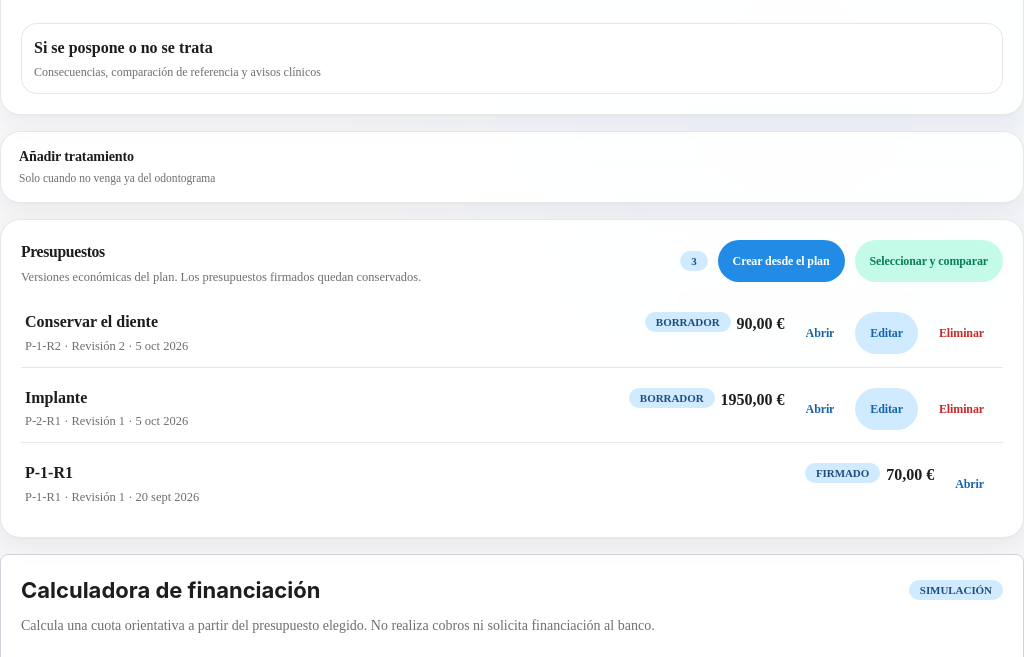
patient budget history › blocks discounts above the clinic maximum
(page scrolled)
Click the button "Abrir" in the row of "· Revisión 2".
click(820, 334)  # box [791,312,849,354]
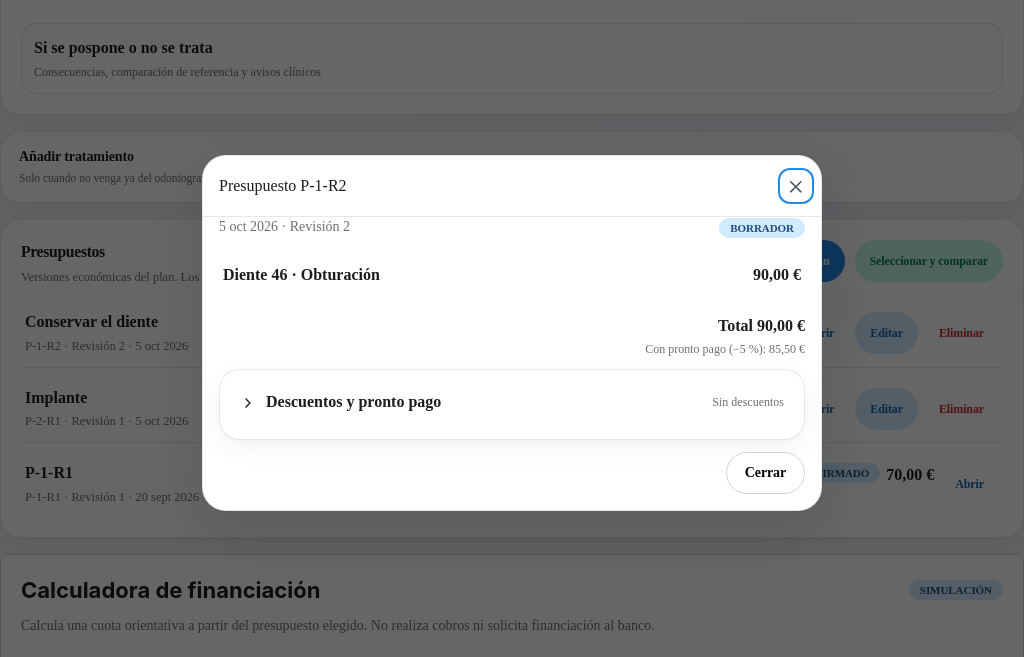
Click the button "Descuentos y pronto pago Sin descuentos".
click(354, 402)  # box [240,390,784,415]
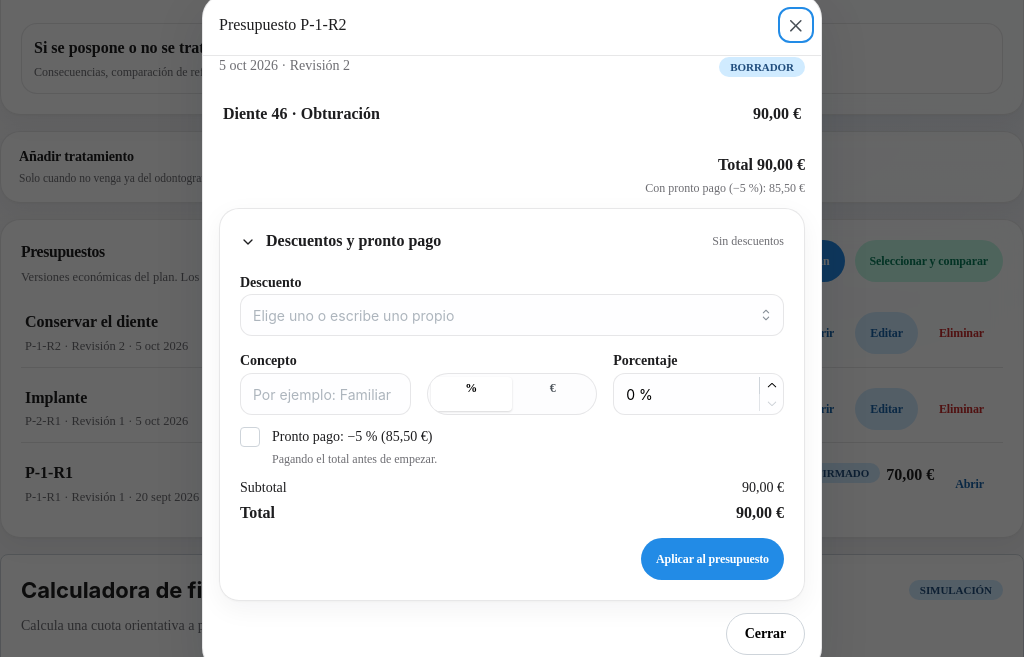
Replace the text in the field labelled "Porcentaje" with "30" at (699, 394), box [613,373,784,415]
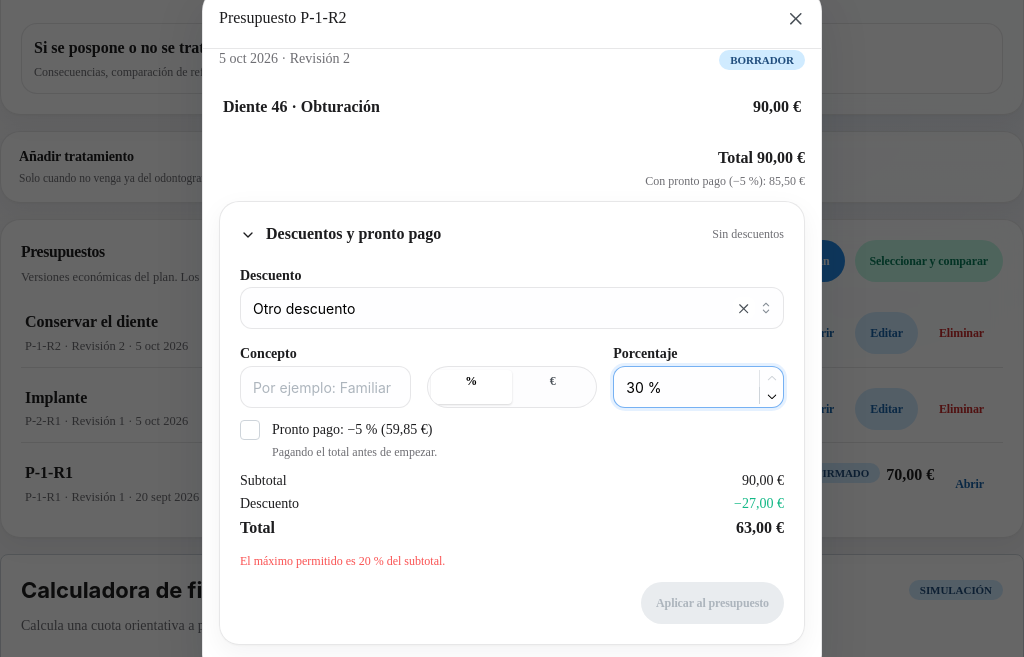
Check: the button "Aplicar al presupuesto" is disabled, box [641,582,784,624]
